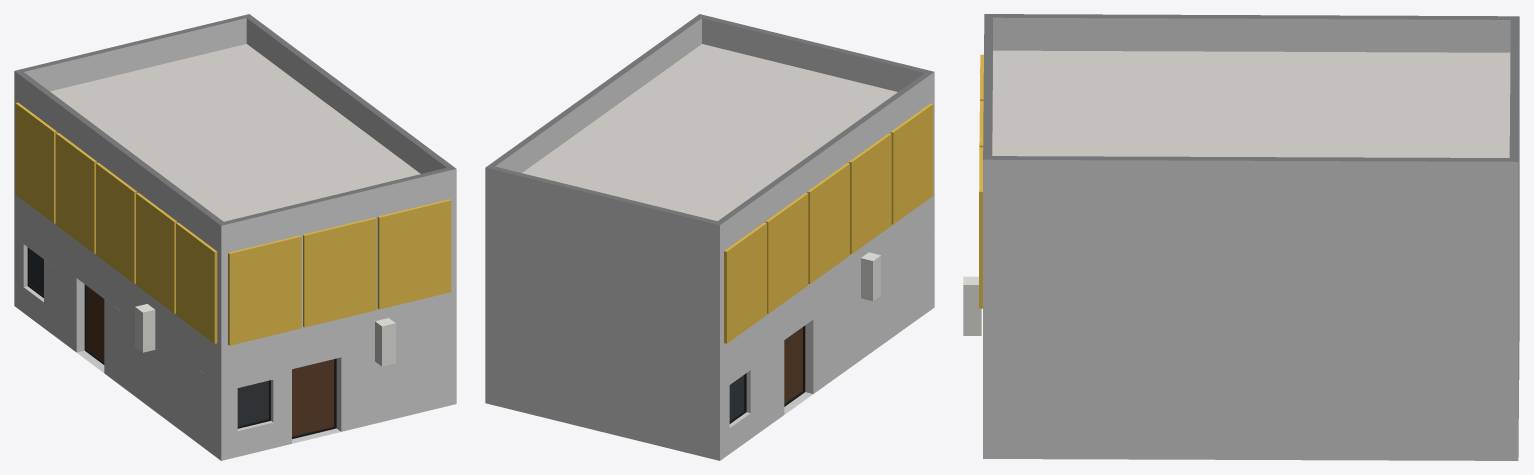
Rendered from mamanon525.glb.
The picture shows the model from 3 angles, left to right: view 1: azimuth 30°, elevation 25°; view 2: azimuth 150°, elevation 25°; view 3: azimuth 270°, elevation 25°; orthographic projection. The views are drawn at different scales.
Parts seen in each view (by area): view 1: mamanon525; view 2: mamanon525; view 3: mamanon525.
Boxes of the visible parts, x1,y1,x2,y2 form: mamanon525: (14,14,456,460); mamanon525: (485,14,934,460); mamanon525: (963,14,1519,460).
Size of the model in its own units: 9.15 by 8.2 by 13.82.
